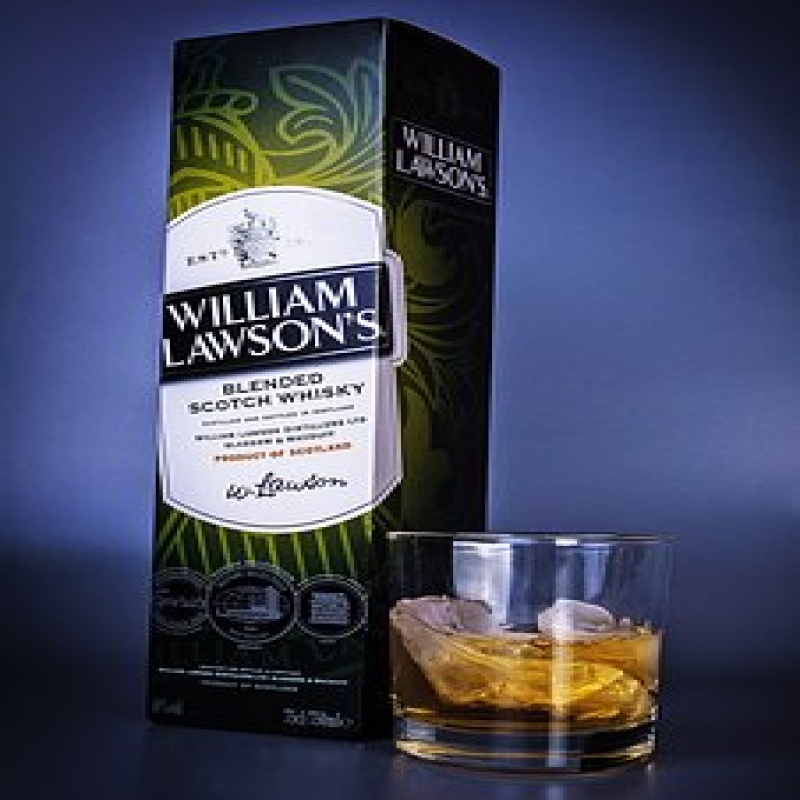whiskey: (388, 527, 678, 760)
